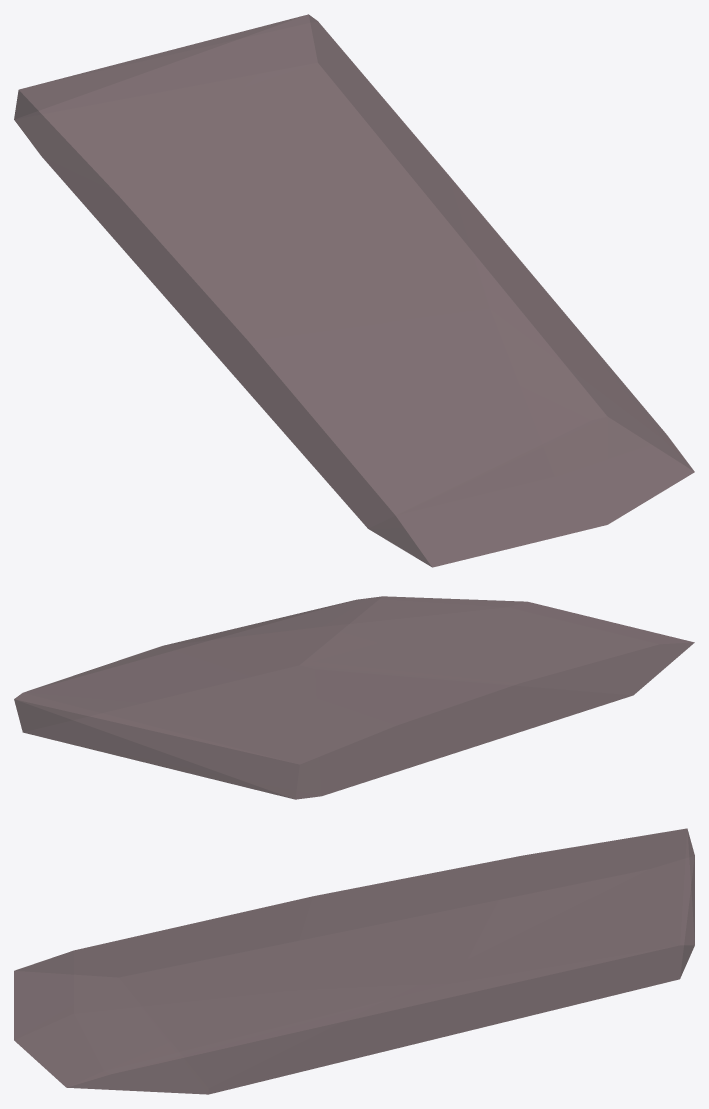
3 views of the same model, one above another, from view 1: azimuth 30°, elevation 25°; view 2: azimuth 150°, elevation 25°; view 3: azimuth 270°, elevation 25° (orthographic). The views are drawn at different scales.
Parts seen in each view (by area): view 1: Shape_IndexedFaceSet.039_Shape_IndexedFaceSet.14072; view 2: Shape_IndexedFaceSet.039_Shape_IndexedFaceSet.14072; view 3: Shape_IndexedFaceSet.039_Shape_IndexedFaceSet.14072.
Boxes of the visible parts, x1,y1,x2,y2 form: Shape_IndexedFaceSet.039_Shape_IndexedFaceSet.14072: (14,14,694,567); Shape_IndexedFaceSet.039_Shape_IndexedFaceSet.14072: (14,596,694,799); Shape_IndexedFaceSet.039_Shape_IndexedFaceSet.14072: (14,828,694,1094).
Size of the model in its own units: 0.1238 by 0.0736 by 0.3043.
